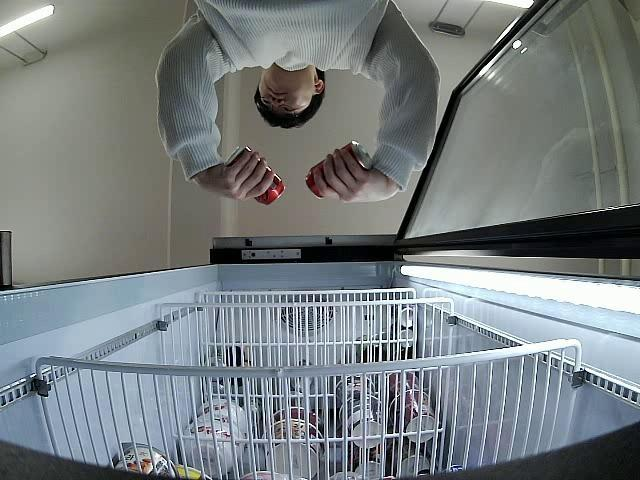11_cocaColaZero: (306, 138, 372, 201), (224, 146, 285, 206)
